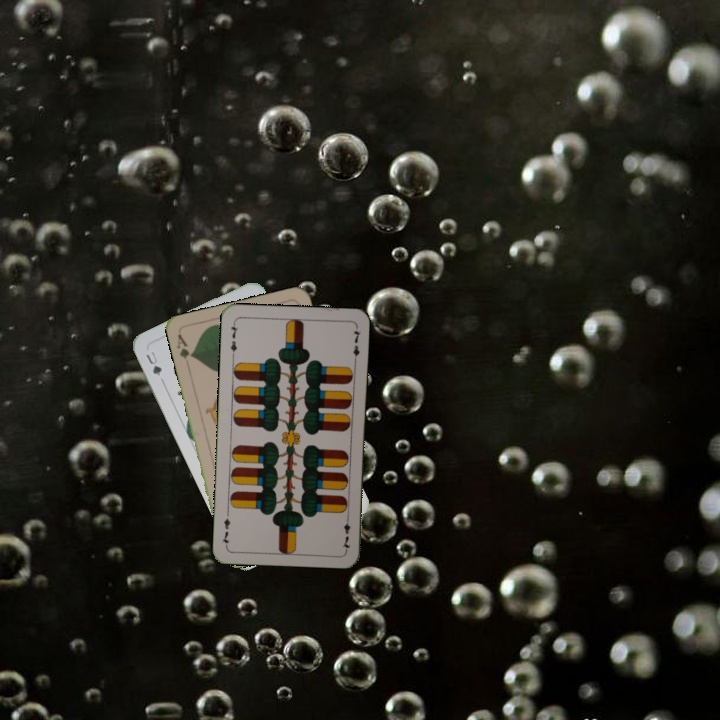E7: (338, 512, 353, 552), (226, 319, 240, 359)
GA: (173, 330, 196, 362)
GU: (142, 347, 164, 379)
